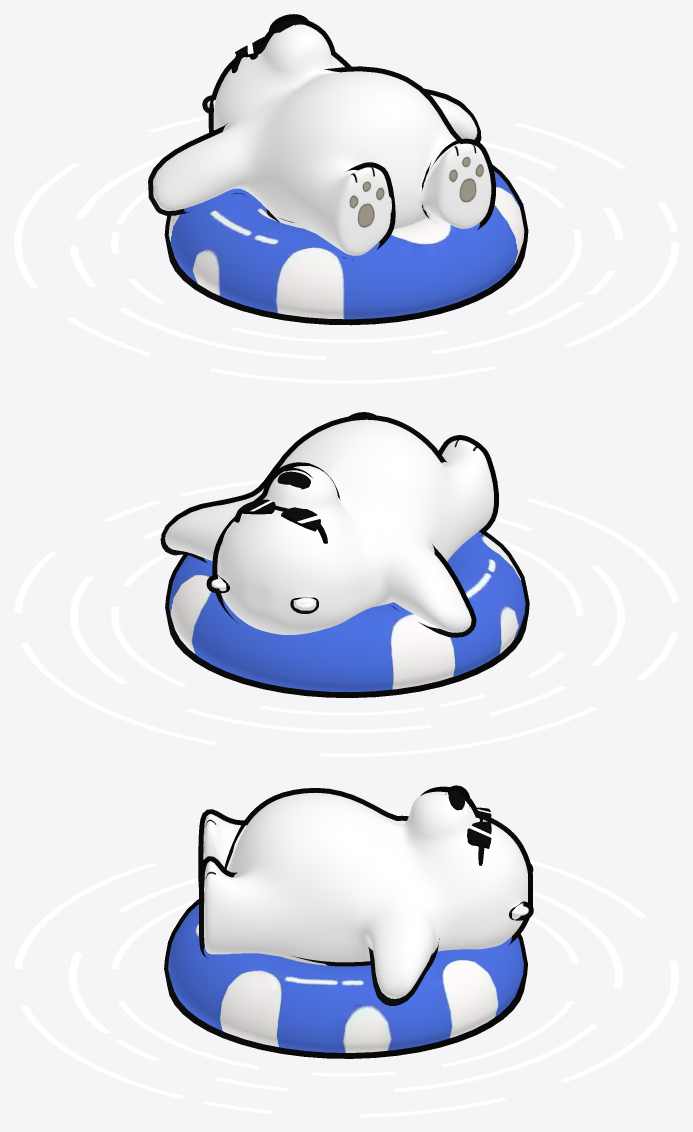
Rendered from gang_bear.glb.
3 renders of one model, top to bottom at view 1: azimuth 30°, elevation 25°; view 2: azimuth 150°, elevation 25°; view 3: azimuth 270°, elevation 25°, orthographic.
Parts seen in each view (by area): view 1: polySurface10_lambert1_0.001_7, Torus_17, polySurface10_lambert1_0.002_8, Circle.002_10, Circle.001_11, Torus.001_19, Circle.003_12, Circle.007_16; view 2: polySurface10_lambert1_0.001_7, Torus_17, polySurface10_lambert1_0.002_8, Circle.002_10, Torus.001_19, Circle.001_11, Circle.003_12, Plane.001_18, Circle.007_16; view 3: polySurface10_lambert1_0.001_7, Torus_17, polySurface10_lambert1_0.002_8, Circle.002_10, Torus.001_19, Circle.001_11, Circle.003_12, Circle.007_16, Plane.001_18.
Part boxes in pixels (<box>): polySurface10_lambert1_0.001_7: <box>153,19,491,255</box>; Torus_17: <box>168,171,524,319</box>; polySurface10_lambert1_0.002_8: <box>148,14,495,260</box>; Circle.002_10: <box>14,115,678,383</box>; Circle.001_11: <box>69,141,623,359</box>; Torus.001_19: <box>164,164,528,325</box>; Circle.003_12: <box>111,176,581,342</box>; Circle.007_16: <box>70,141,622,359</box>; polySurface10_lambert1_0.001_7: <box>165,419,493,634</box>; Torus_17: <box>169,531,525,692</box>; polySurface10_lambert1_0.002_8: <box>160,412,498,637</box>; Circle.002_10: <box>20,479,678,756</box>; Torus.001_19: <box>165,531,529,697</box>; Circle.001_11: <box>70,517,624,733</box>; Circle.003_12: <box>111,538,583,715</box>; Plane.001_18: <box>234,499,327,543</box>; Circle.007_16: <box>70,519,624,733</box>; polySurface10_lambert1_0.001_7: <box>203,790,528,998</box>; Torus_17: <box>168,904,523,1052</box>; polySurface10_lambert1_0.002_8: <box>198,785,533,1005</box>; Circle.002_10: <box>14,859,678,1117</box>; Torus.001_19: <box>164,899,527,1058</box>; Circle.001_11: <box>69,878,623,1091</box>; Circle.003_12: <box>111,899,578,1076</box>; Circle.007_16: <box>69,878,623,1091</box>; Plane.001_18: <box>467,807,491,865</box>.
Size of what is drawn, in the model's own units: 14.01 by 4.7 by 14.
5 materials, 2 textured.
